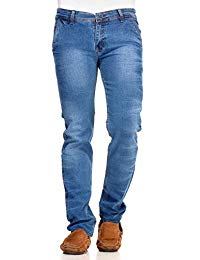jeans: (41, 3, 138, 228)
